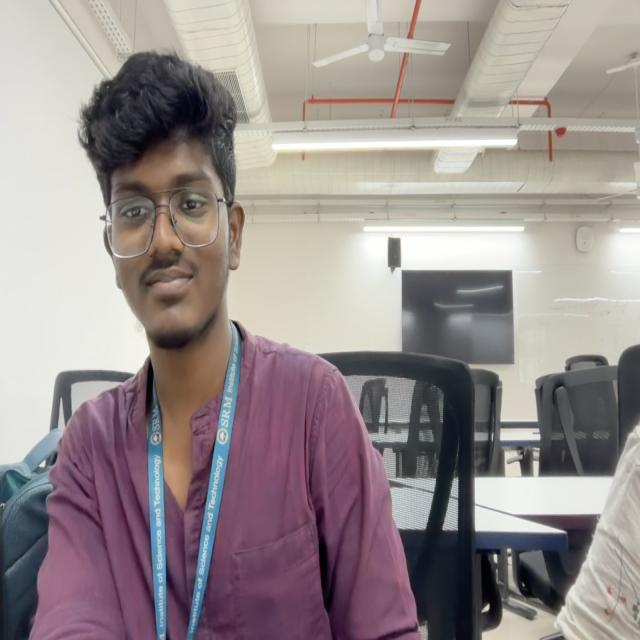ravindra: (80, 52, 245, 350)
